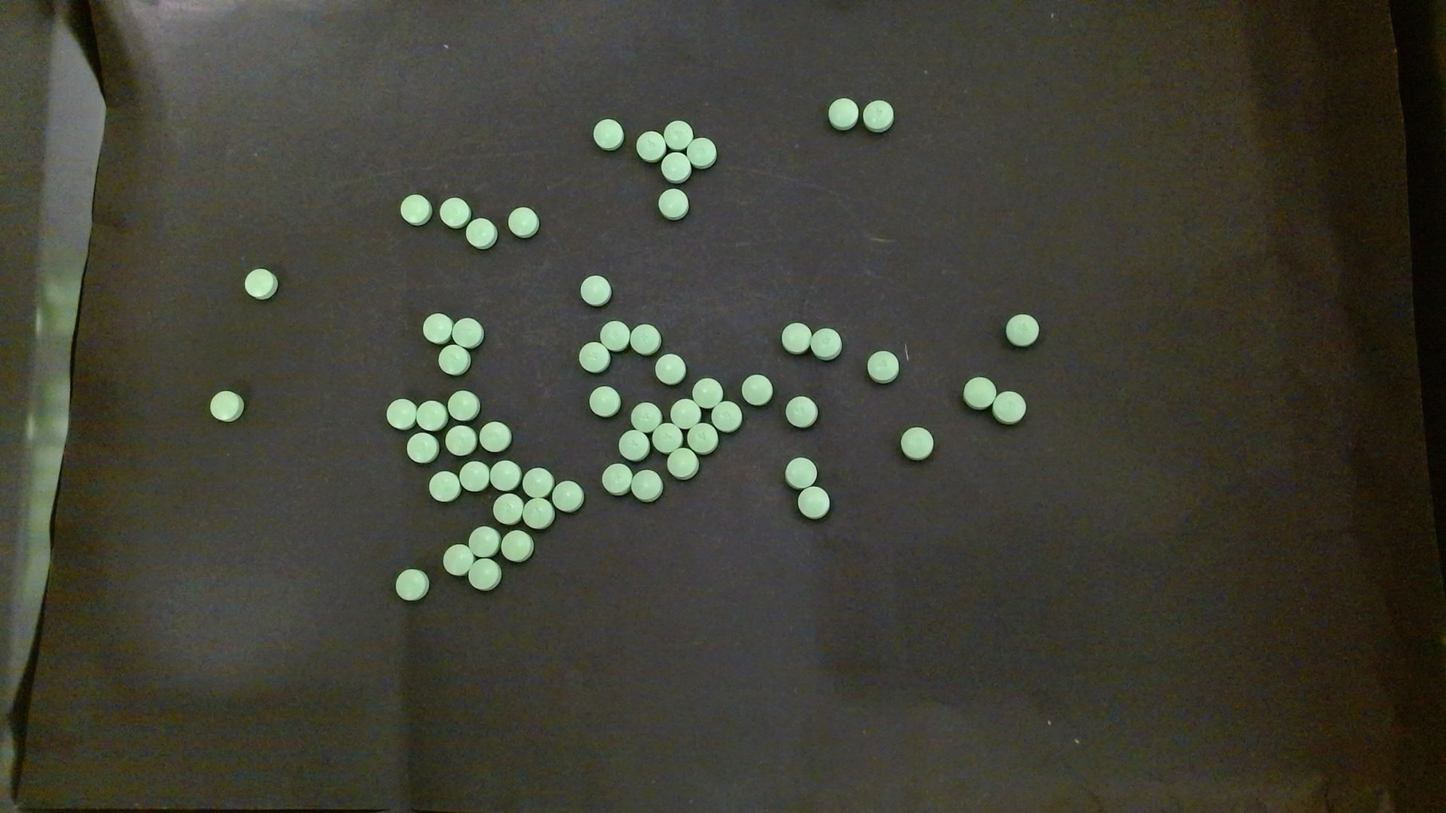Circle: (898, 425, 936, 462), (207, 388, 246, 424), (243, 267, 280, 303), (962, 376, 996, 410), (394, 568, 429, 601), (992, 391, 1025, 424), (1005, 314, 1039, 346), (798, 486, 830, 519), (468, 558, 501, 590), (500, 530, 533, 562), (667, 447, 699, 480), (469, 525, 501, 558), (551, 480, 583, 513), (631, 469, 663, 501), (785, 457, 817, 489), (442, 544, 474, 576), (589, 385, 621, 417), (786, 396, 818, 428), (406, 432, 438, 464), (438, 344, 470, 376), (415, 399, 447, 431), (479, 420, 511, 452), (444, 424, 476, 456), (386, 397, 417, 430), (593, 118, 624, 151), (867, 350, 898, 383), (862, 99, 893, 132), (459, 459, 490, 492), (447, 390, 480, 421), (654, 353, 685, 385), (742, 374, 773, 406), (811, 327, 842, 359), (601, 463, 632, 495), (429, 470, 460, 502), (618, 429, 649, 461), (657, 188, 688, 220), (711, 400, 742, 432), (465, 218, 496, 249), (580, 275, 611, 306), (599, 320, 630, 351), (422, 312, 453, 343), (400, 193, 431, 224), (578, 342, 609, 373), (452, 317, 483, 348), (507, 206, 538, 237), (522, 467, 553, 498), (630, 401, 661, 432), (651, 422, 682, 453), (781, 322, 811, 354), (630, 323, 660, 355), (490, 459, 520, 491), (493, 493, 523, 525), (523, 498, 554, 528), (828, 98, 858, 129), (660, 151, 690, 182), (636, 129, 665, 161), (692, 377, 722, 407), (687, 423, 717, 453), (671, 398, 701, 428), (440, 197, 469, 228), (664, 120, 693, 151), (687, 137, 715, 168)
